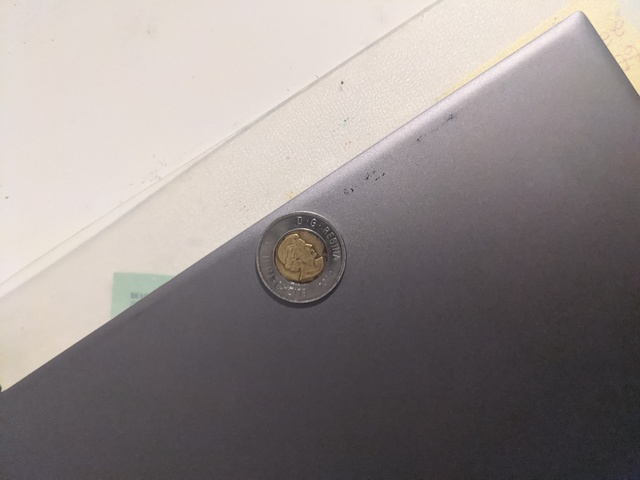twonie: (256, 214, 348, 307)
